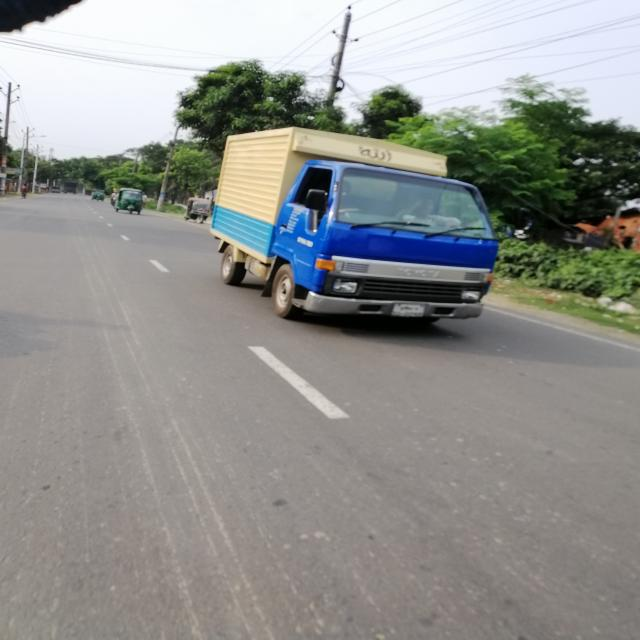Pick-up-van: (204, 123, 506, 338)
